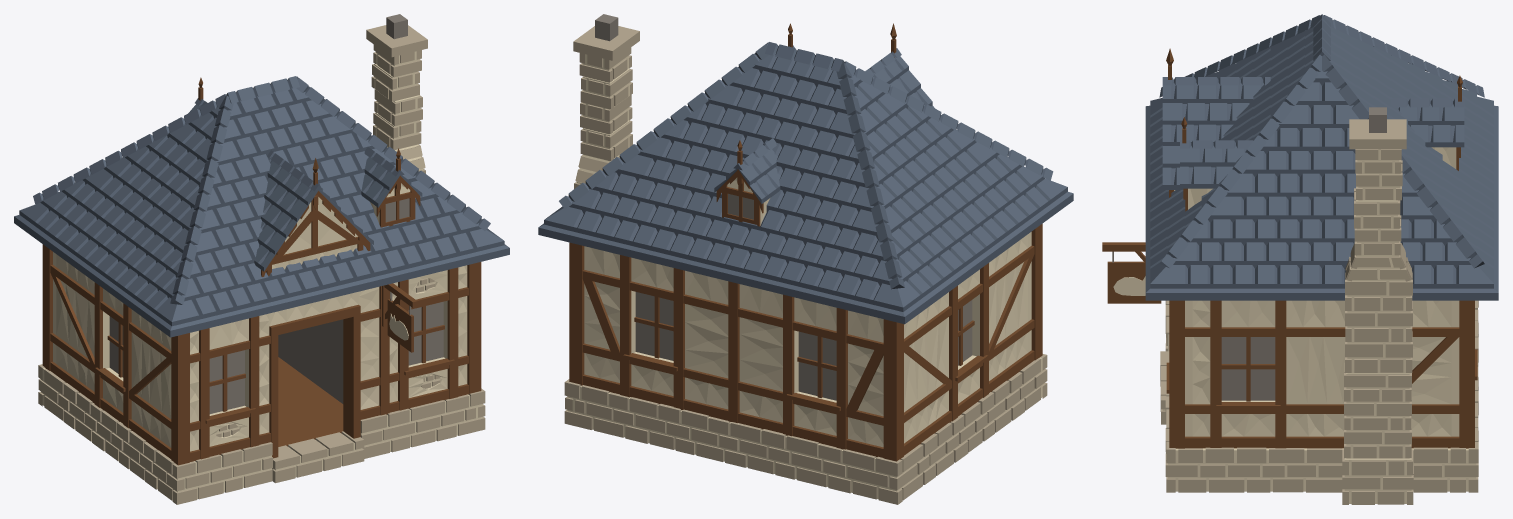
Rendered from tavern_exterior.glb.
The picture shows the model from 3 angles, left to right: view 1: azimuth 30°, elevation 25°; view 2: azimuth 150°, elevation 25°; view 3: azimuth 270°, elevation 25°; orthographic projection. The views are drawn at different scales.
Visible parts, largest first — view 1: Roof, Timbers, Walls, Foundation, Gable_Front, Vestibule, Chimney, Windows, Doorway, Dormer_Front, Sign; view 2: Roof, Timbers, Walls, Foundation, Chimney, Windows, Dormer_Back, Gable_Front; view 3: Roof, Chimney, Walls, Timbers, Foundation, Gable_Front, Windows, Dormer_Back, Dormer_Front, Sign.
Boxes of the visible parts, x1=… form: Roof: x1=14, y1=76, x2=509, y2=337; Timbers: x1=42, y1=244, x2=481, y2=465; Walls: x1=53, y1=252, x2=467, y2=451; Foundation: x1=38, y1=364, x2=485, y2=504; Gable_Front: x1=252, y1=150, x2=373, y2=276; Vestibule: x1=278, y1=319, x2=343, y2=446; Chimney: x1=366, y1=14, x2=427, y2=173; Windows: x1=95, y1=301, x2=454, y2=423; Doorway: x1=269, y1=304, x2=360, y2=458; Dormer_Front: x1=361, y1=147, x2=422, y2=227; Sign: x1=382, y1=283, x2=417, y2=352; Roof: x1=538, y1=42, x2=1073, y2=324; Timbers: x1=569, y1=224, x2=1042, y2=461; Walls: x1=584, y1=232, x2=1031, y2=447; Foundation: x1=564, y1=354, x2=1047, y2=504; Chimney: x1=573, y1=14, x2=639, y2=188; Windows: x1=623, y1=292, x2=988, y2=411; Dormer_Back: x1=714, y1=137, x2=780, y2=226; Gable_Front: x1=865, y1=23, x2=934, y2=108; Roof: x1=1145, y1=14, x2=1498, y2=300; Chimney: x1=1342, y1=107, x2=1413, y2=504; Walls: x1=1185, y1=300, x2=1459, y2=436; Timbers: x1=1169, y1=300, x2=1474, y2=448; Foundation: x1=1160, y1=300, x2=1478, y2=492; Gable_Front: x1=1162, y1=48, x2=1270, y2=197; Windows: x1=1166, y1=337, x2=1477, y2=409; Dormer_Back: x1=1389, y1=75, x2=1464, y2=170; Dormer_Front: x1=1180, y1=117, x2=1253, y2=211; Sign: x1=1102, y1=242, x2=1161, y2=303.
Size of the model in its own units: 10.14 by 9.5 by 8.87.
